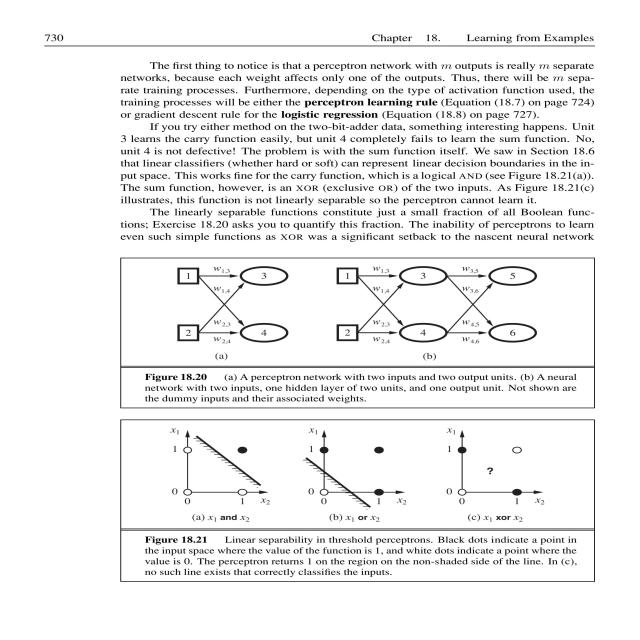diagram: (120, 421, 594, 579), (120, 255, 598, 406)
